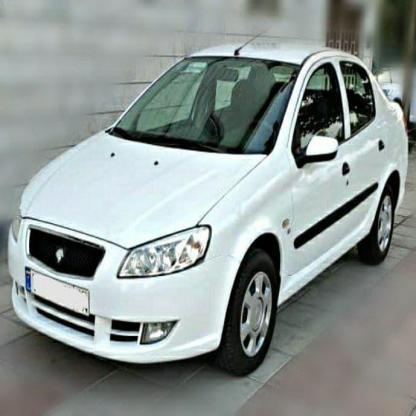Car: (1, 40, 410, 360)
